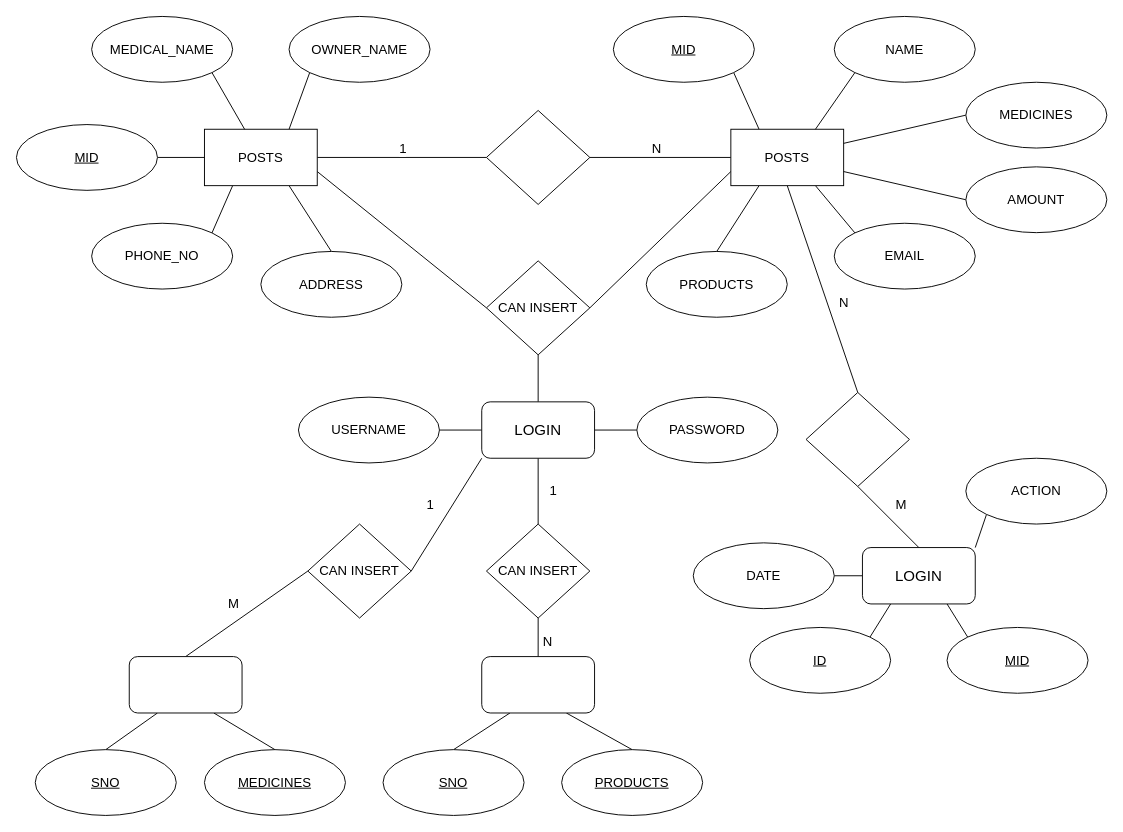
Some shapes in this 1123 by 832 pixel diagram are drawn without their labels. Here are the shapes that lost their labels. From the top down, the box of each, then its label:
(486, 110, 590, 204): CAN ORDER
(805, 392, 909, 486): ADDS
(128, 656, 242, 713): ADMP
(481, 656, 595, 713): ADDPD
